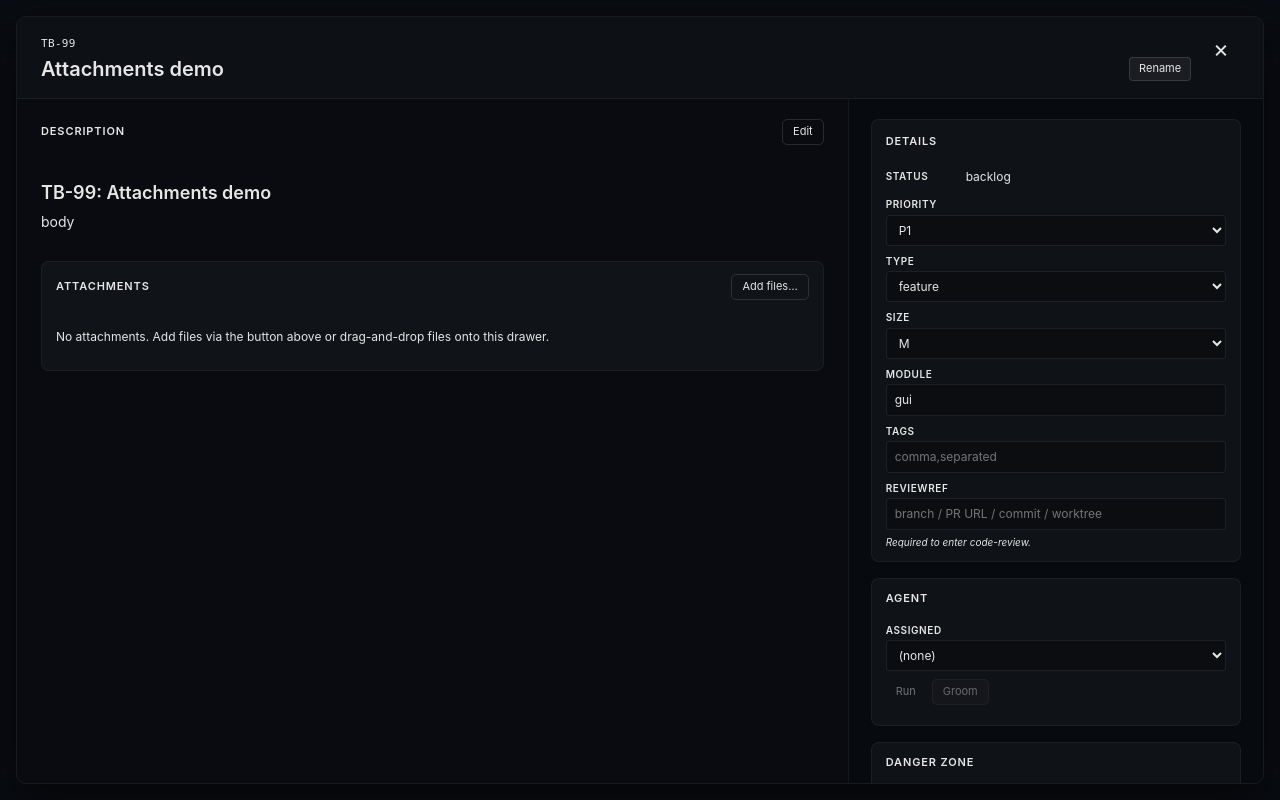
Test: TaskDrawer attachments UI (TB-152) › waits for watcher event before refreshing after picker add
This screenshot has width=1280, height=800.
Click the button "Add files…".
click(770, 287)  # box [731, 274, 809, 300]
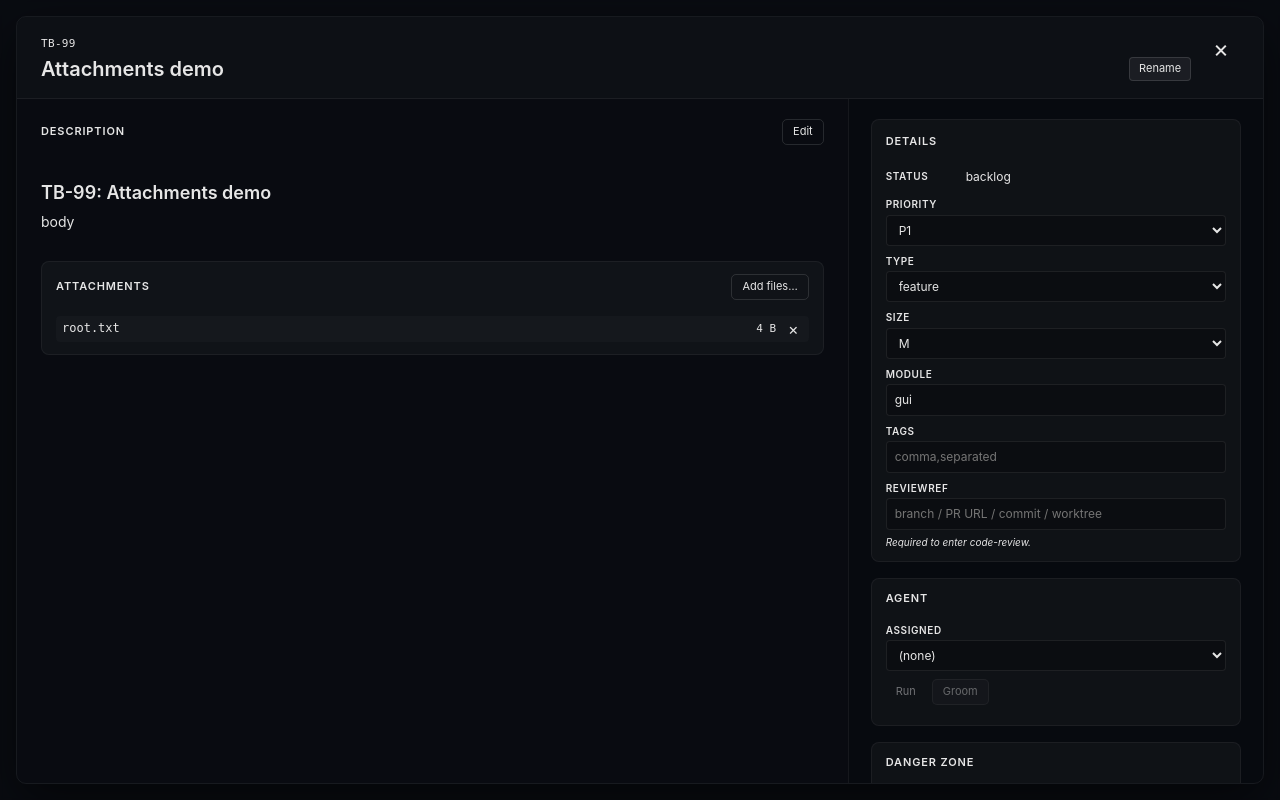
Check: the button with class "att-name" reads "root.txt", box [62, 320, 748, 338]
